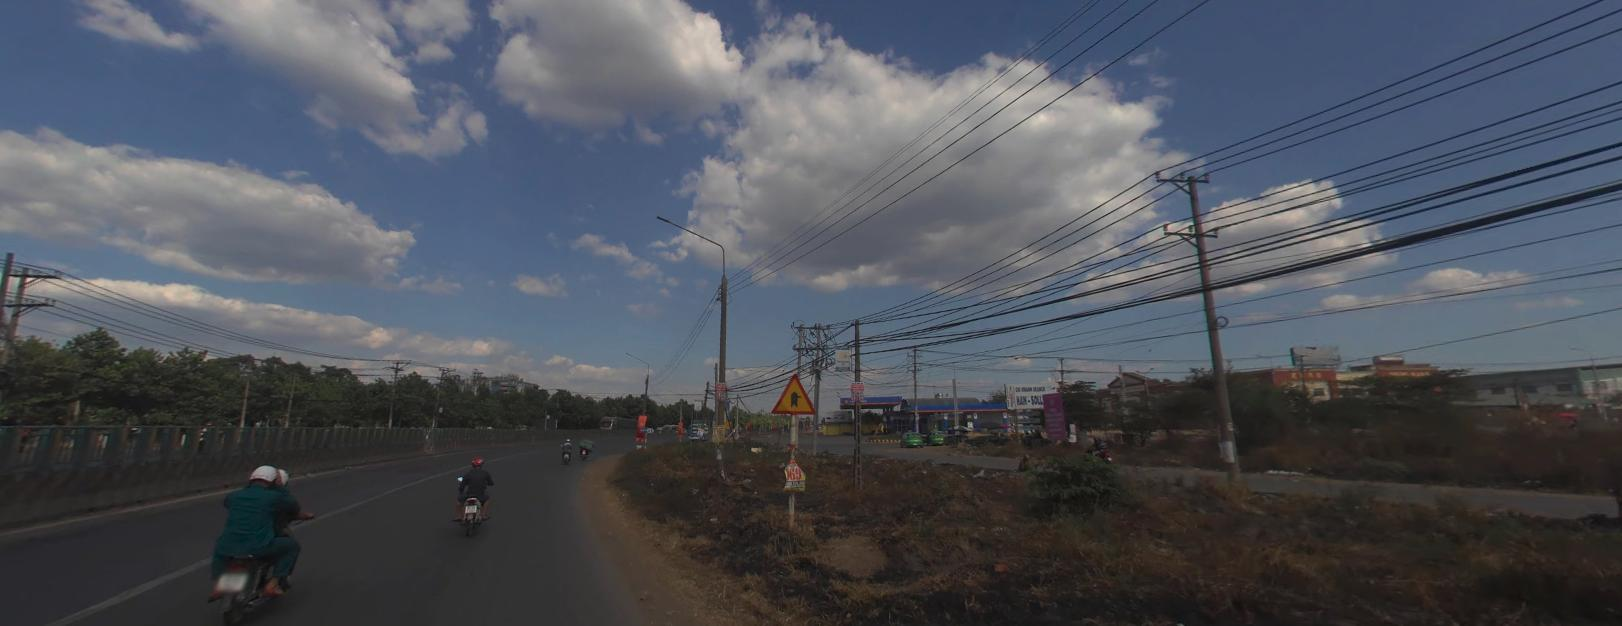Nguy hiem: (769, 371, 815, 413)
